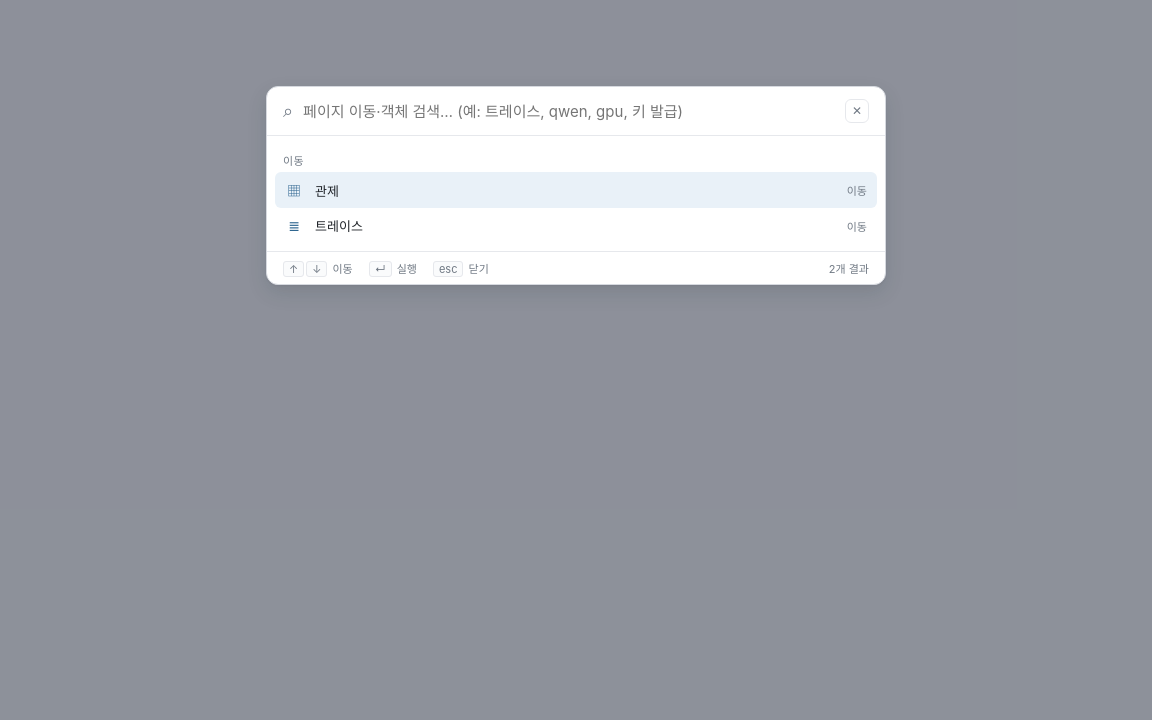
it: Search Around 팔레트 — empty / no-results › 무매치 쿼리 → 빈 상태 + aria-live 0
The image size is (1152, 720).
Type "zzzznope" into the dropdown at (569, 111), box [301,101,837,122]
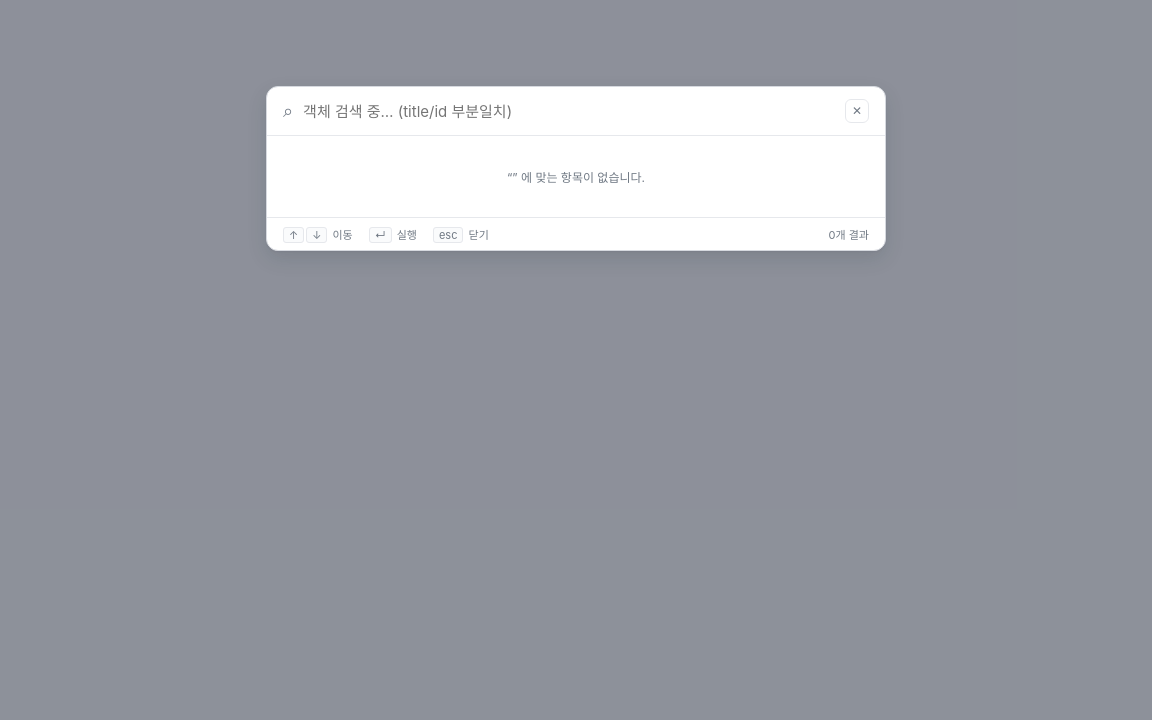
Now the text "“” 에 맞는 항목이 없습니다." is shown, box [507,170,645,185]
